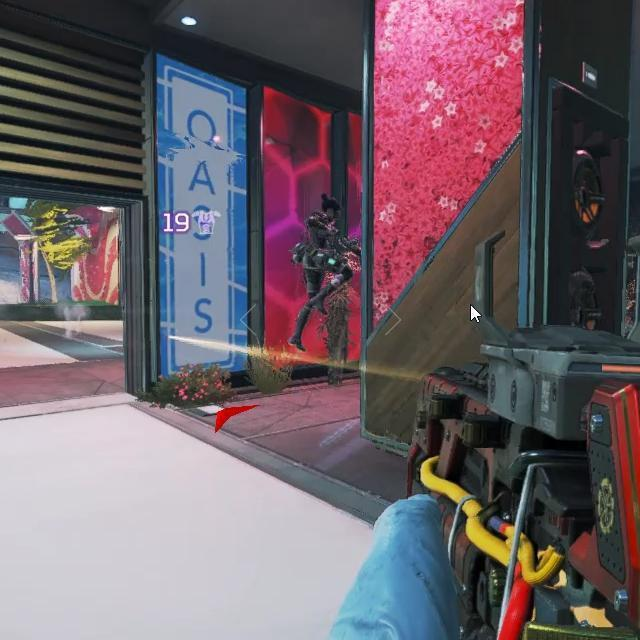avatar: (287, 191, 357, 350)
